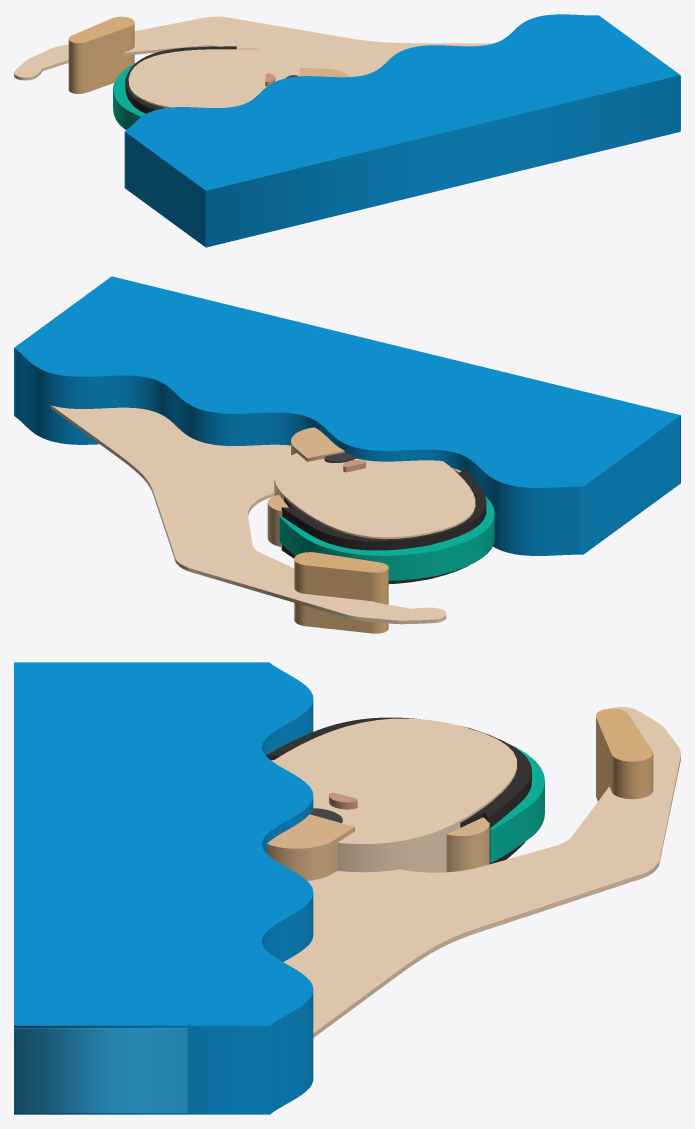
Rendered from emoji_u1f3ca_1f3fb_200d_2642.glb.
3 views of the same model, one above another, from view 1: azimuth 30°, elevation 25°; view 2: azimuth 150°, elevation 25°; view 3: azimuth 270°, elevation 25° (orthographic). The views are drawn at different scales.
Parts seen in each view (by area): view 1: emoji_u1f3ca_1f3fb_200d_2642; view 2: emoji_u1f3ca_1f3fb_200d_2642; view 3: emoji_u1f3ca_1f3fb_200d_2642.
Part boxes in pixels (x1=…): emoji_u1f3ca_1f3fb_200d_2642: x1=14, y1=14, x2=680, y2=247; emoji_u1f3ca_1f3fb_200d_2642: x1=14, y1=276, x2=680, y2=633; emoji_u1f3ca_1f3fb_200d_2642: x1=14, y1=662, x2=680, y2=1114.
Bounding box in the file's own units: 0.0333 × 0.0038 × 0.0258.
